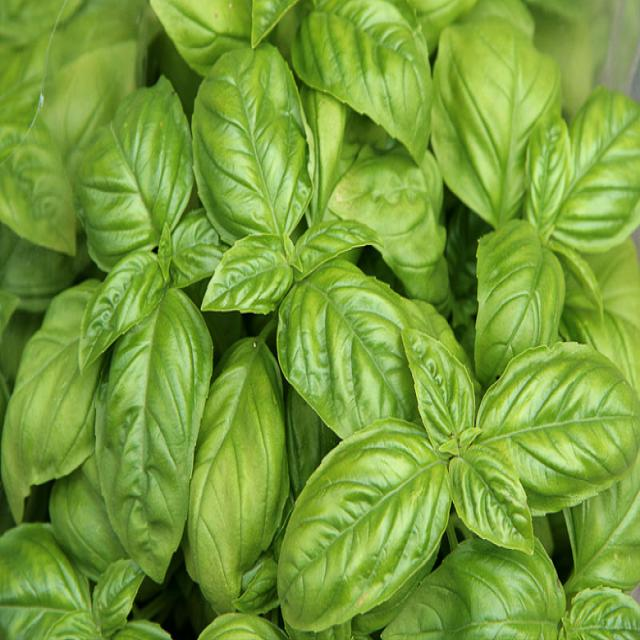Sweet Basil: (8, 0, 479, 529), (274, 283, 639, 615)
